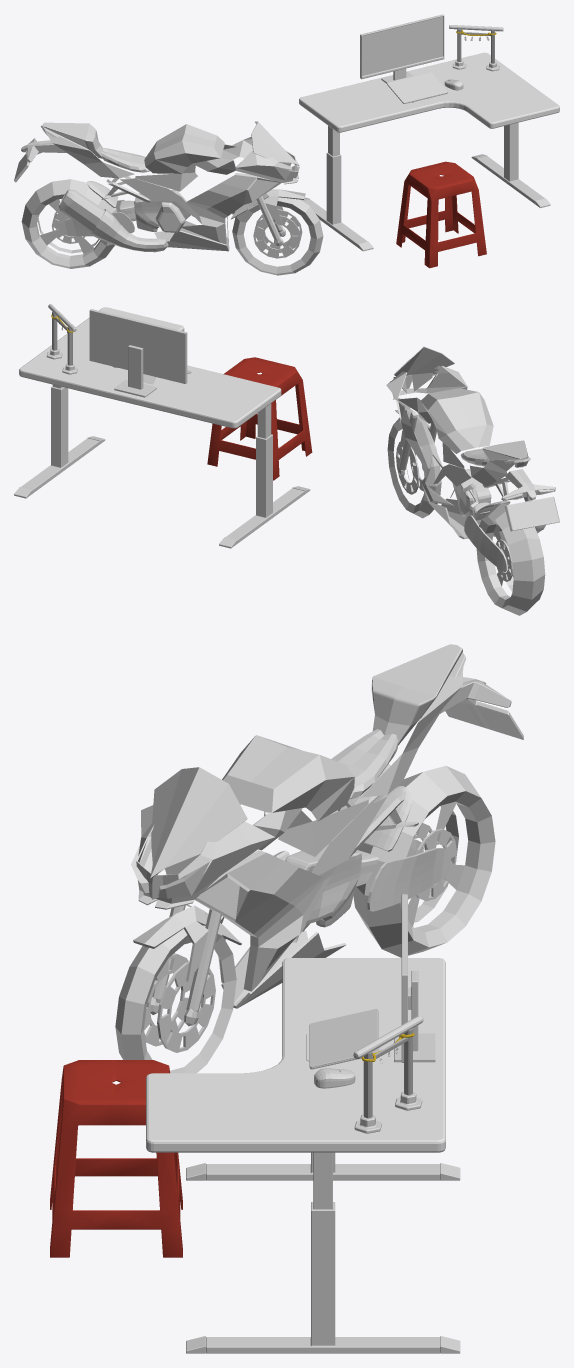
3 renders of one model, top to bottom at view 1: azimuth 30°, elevation 25°; view 2: azimuth 150°, elevation 25°; view 3: azimuth 270°, elevation 25°, orthographic. The views are drawn at different scales.
Visible parts, largest first — view 1: desk-plane, plastic-red-chair, Plane.001, wheel-front.002, Cube, Plane.011, sit.002, wheel-front, Plane.010, sit.006, Plane.020, wheel-front.001 (+17 smaller); view 2: desk-plane, Plane.001, Cube, plastic-red-chair, wheel-front.002, sit.002, sit.009, Plane.010, wheel-front, Plane.012, Plane, Plane.022 (+13 smaller); view 3: desk-plane, plastic-red-chair, wheel-front.002, Cube, Plane.011, sit.002, Plane.012, wheel-front, Plane.010, sit.003, sit.006, wheel-front.001 (+18 smaller).
Part boxes in pixels (box(x1,y1,x2,y2)): desk-plane: box(299, 52, 559, 132); plastic-red-chair: box(396, 161, 486, 268); Plane.001: box(360, 14, 444, 79); wheel-front.002: box(21, 179, 116, 268); Cube: box(303, 122, 544, 247); Plane.011: box(181, 173, 281, 244); sit.002: box(144, 124, 224, 173); wheel-front: box(232, 197, 323, 275); Plane.010: box(192, 136, 298, 184); sit.006: box(120, 164, 197, 216); Plane.020: box(91, 209, 168, 252); wheel-front.001: box(253, 209, 302, 258); desk-plane: box(19, 307, 281, 428); Plane.001: box(89, 309, 187, 383); Cube: box(20, 386, 304, 543); plastic-red-chair: box(207, 357, 312, 480); wheel-front.002: box(476, 503, 545, 615); sit.002: box(421, 388, 493, 453); sit.009: box(501, 469, 559, 531); Plane.010: box(386, 365, 467, 423); wheel-front: box(387, 417, 441, 518); Plane.012: box(394, 346, 454, 392); Plane: box(114, 345, 156, 397); Plane.022: box(464, 515, 507, 571); desk-plane: box(146, 958, 445, 1152); plastic-red-chair: box(50, 1060, 182, 1257); wheel-front.002: box(353, 766, 495, 957); Cube: box(206, 1152, 440, 1353); Plane.011: box(158, 850, 331, 991); sit.002: box(222, 735, 354, 821); Plane.012: box(150, 767, 247, 879); wheel-front: box(115, 925, 236, 1073); Plane.010: box(136, 804, 302, 909); sit.003: box(371, 644, 462, 745); sit.006: box(264, 797, 386, 875); wheel-front.001: box(144, 953, 215, 1052).
Bounding box in the file's own units: 3.98 × 1.36 × 1.74.
